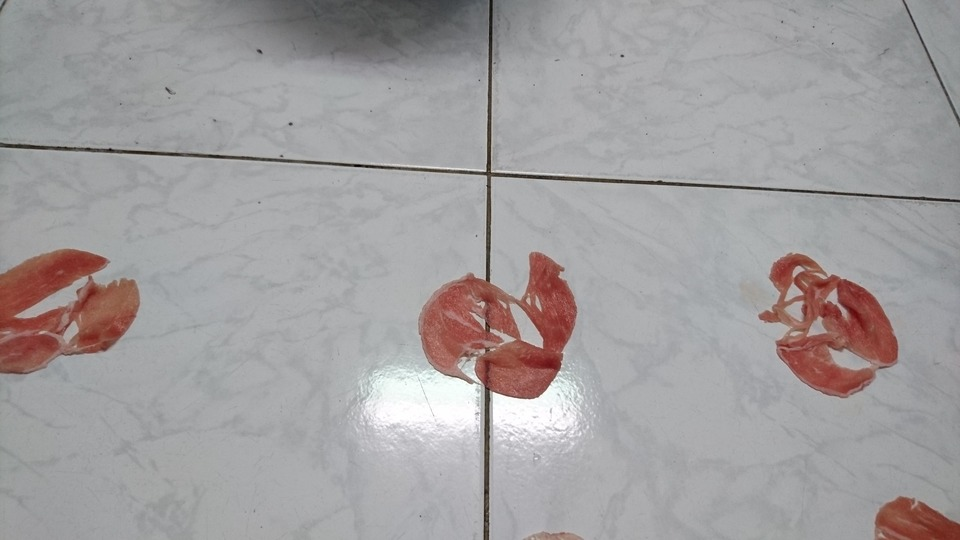restructured meat: (415, 249, 583, 407), (751, 244, 919, 402), (1, 241, 141, 380)
